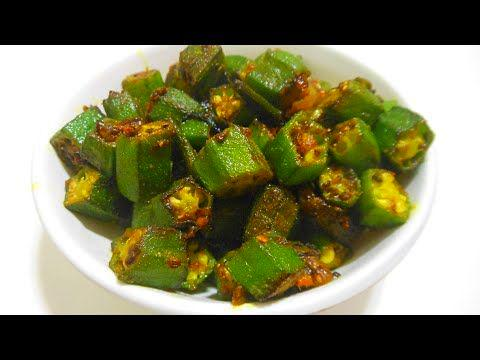bhindi: (104, 50, 423, 281)
